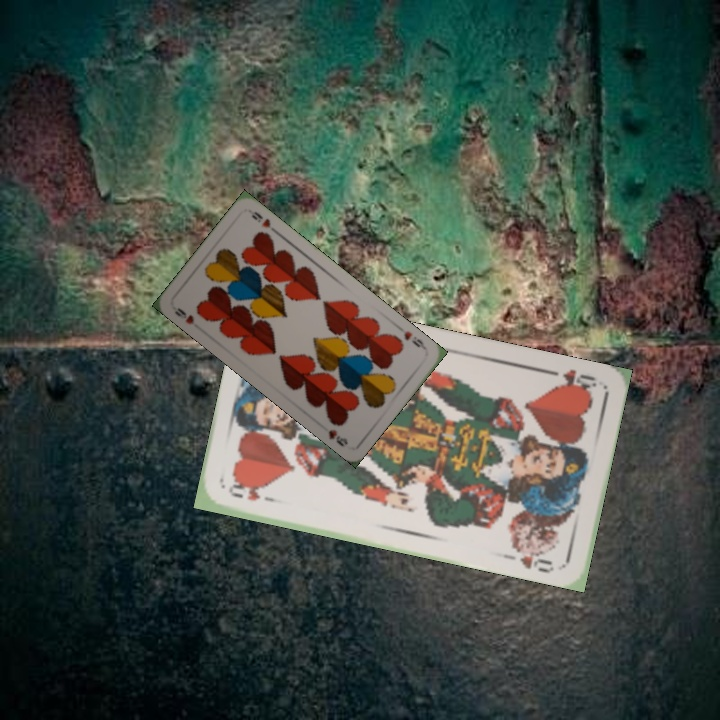H9: (400, 327, 429, 353), (171, 303, 197, 327)
HO: (544, 365, 599, 395), (224, 480, 281, 505)
